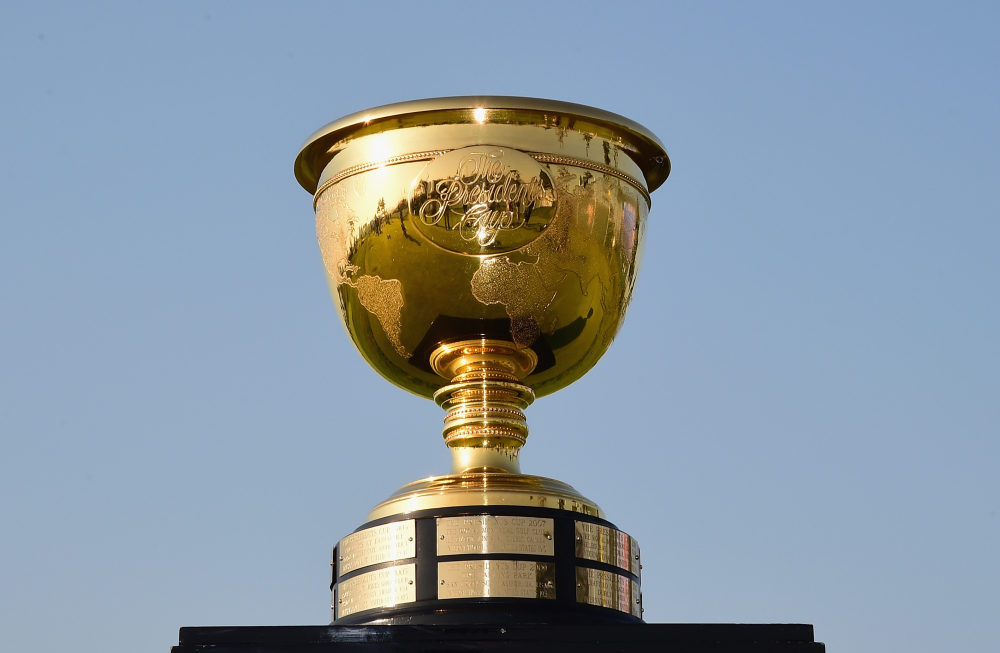trophy: (291, 88, 671, 629)
